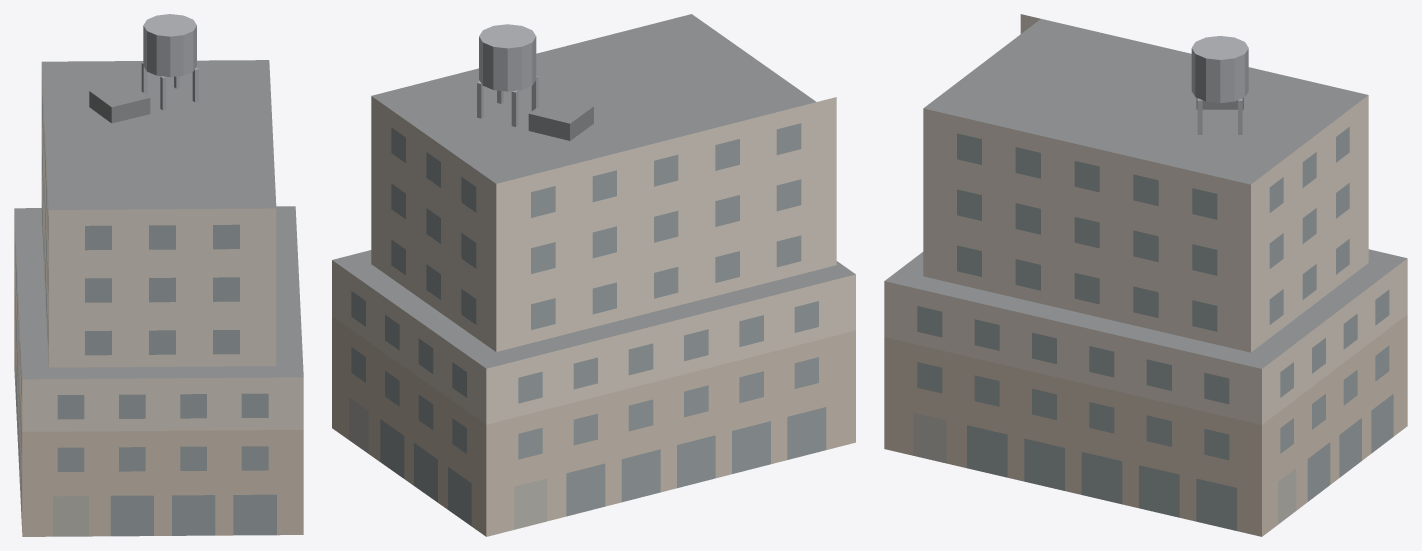
File: doitt-584049__lod_1.glb
3 views of the same model, side by side, from view 1: azimuth 30°, elevation 25°; view 2: azimuth 150°, elevation 25°; view 3: azimuth 270°, elevation 25° (orthographic). The views are drawn at different scales.
Size of the model in its own units: 29.6 by 28.74 by 32.94.
